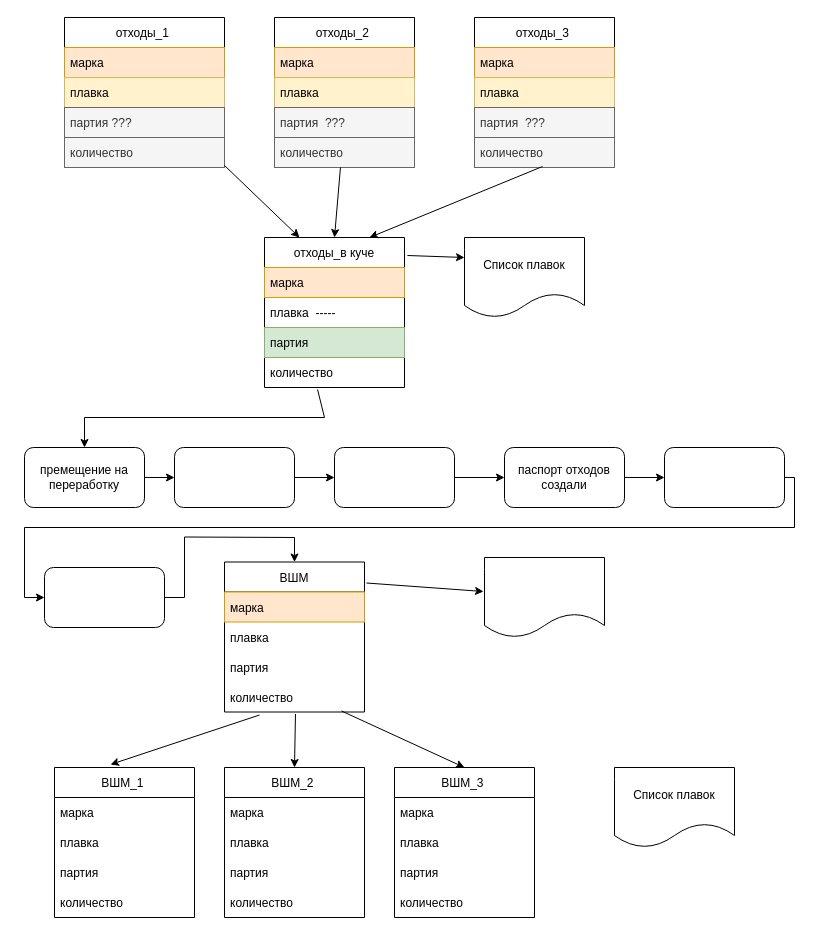
Image size: 820x935. Some labels were removed from this diagram. The centre of each missing label's shape, as x and y in pixels:
"выбор ТЭКа пеработки" belongs at point 394,477.
"оформили" belongs at point 234,477.
"Паспорт ВШМ" belongs at point 544,597.
"переработка" belongs at point 724,477.
"Сепарация" belongs at point 104,597.
